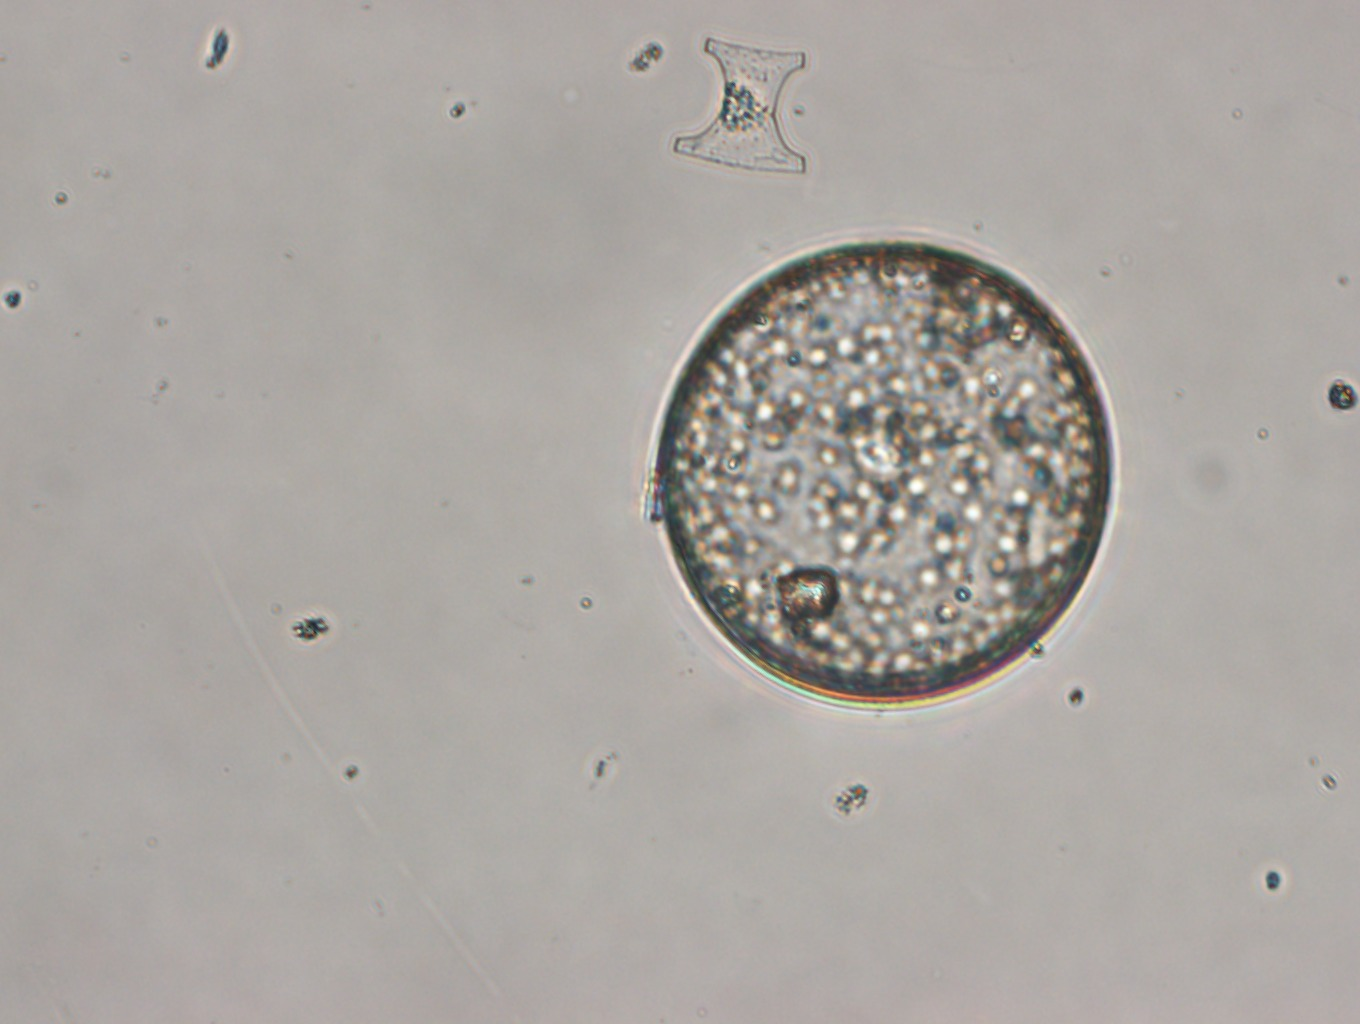coscinodiscus: (645, 234, 1121, 712)
eucampia: (673, 34, 808, 175)
